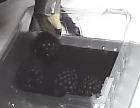berry: (33, 32, 62, 65), (53, 65, 79, 97), (17, 61, 44, 91), (79, 76, 105, 97)
